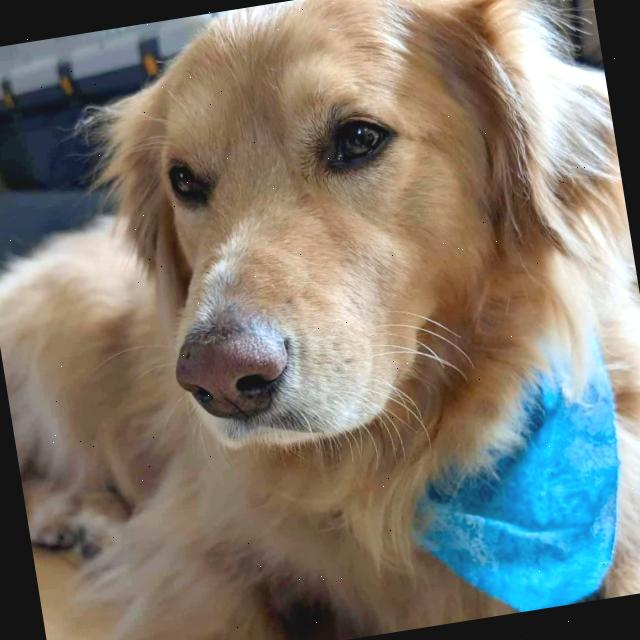golden_retriever_dog: (46, 0, 640, 518)
